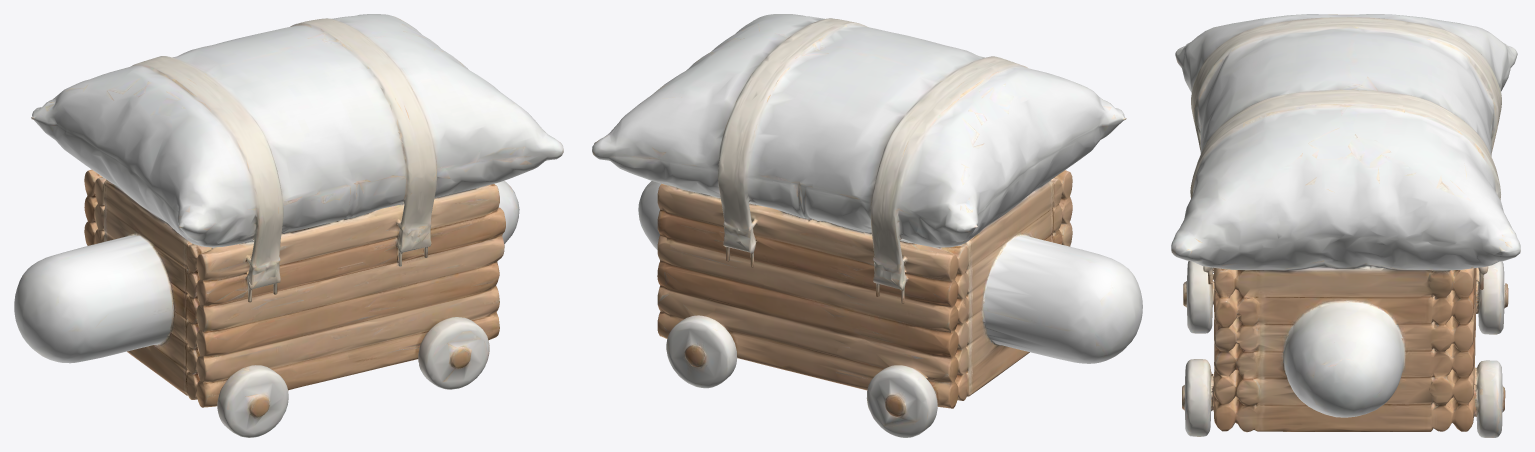
3 renders of one model, left to right at view 1: azimuth 30°, elevation 25°; view 2: azimuth 150°, elevation 25°; view 3: azimuth 270°, elevation 25°, orthographic. The views are drawn at different scales.
Parts seen in each view (by area): view 1: Mesh_0; view 2: Mesh_0; view 3: Mesh_0.
Boxes of the visible parts, x1,y1,x2,y2 form: Mesh_0: (14,14,563,437); Mesh_0: (592,14,1142,437); Mesh_0: (1171,14,1520,437).
Size of the model in its own units: 1.91 by 1.14 by 1.12.
Materials: 1 (1 with a texture image).
